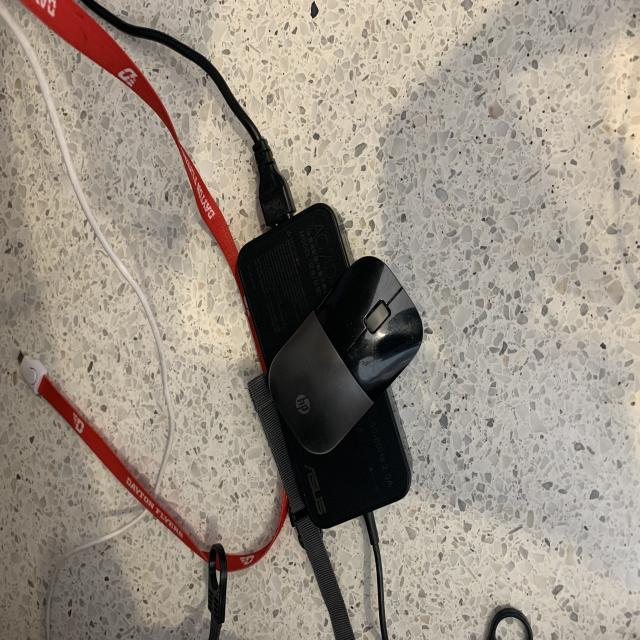Mouse: (262, 252, 428, 463)
